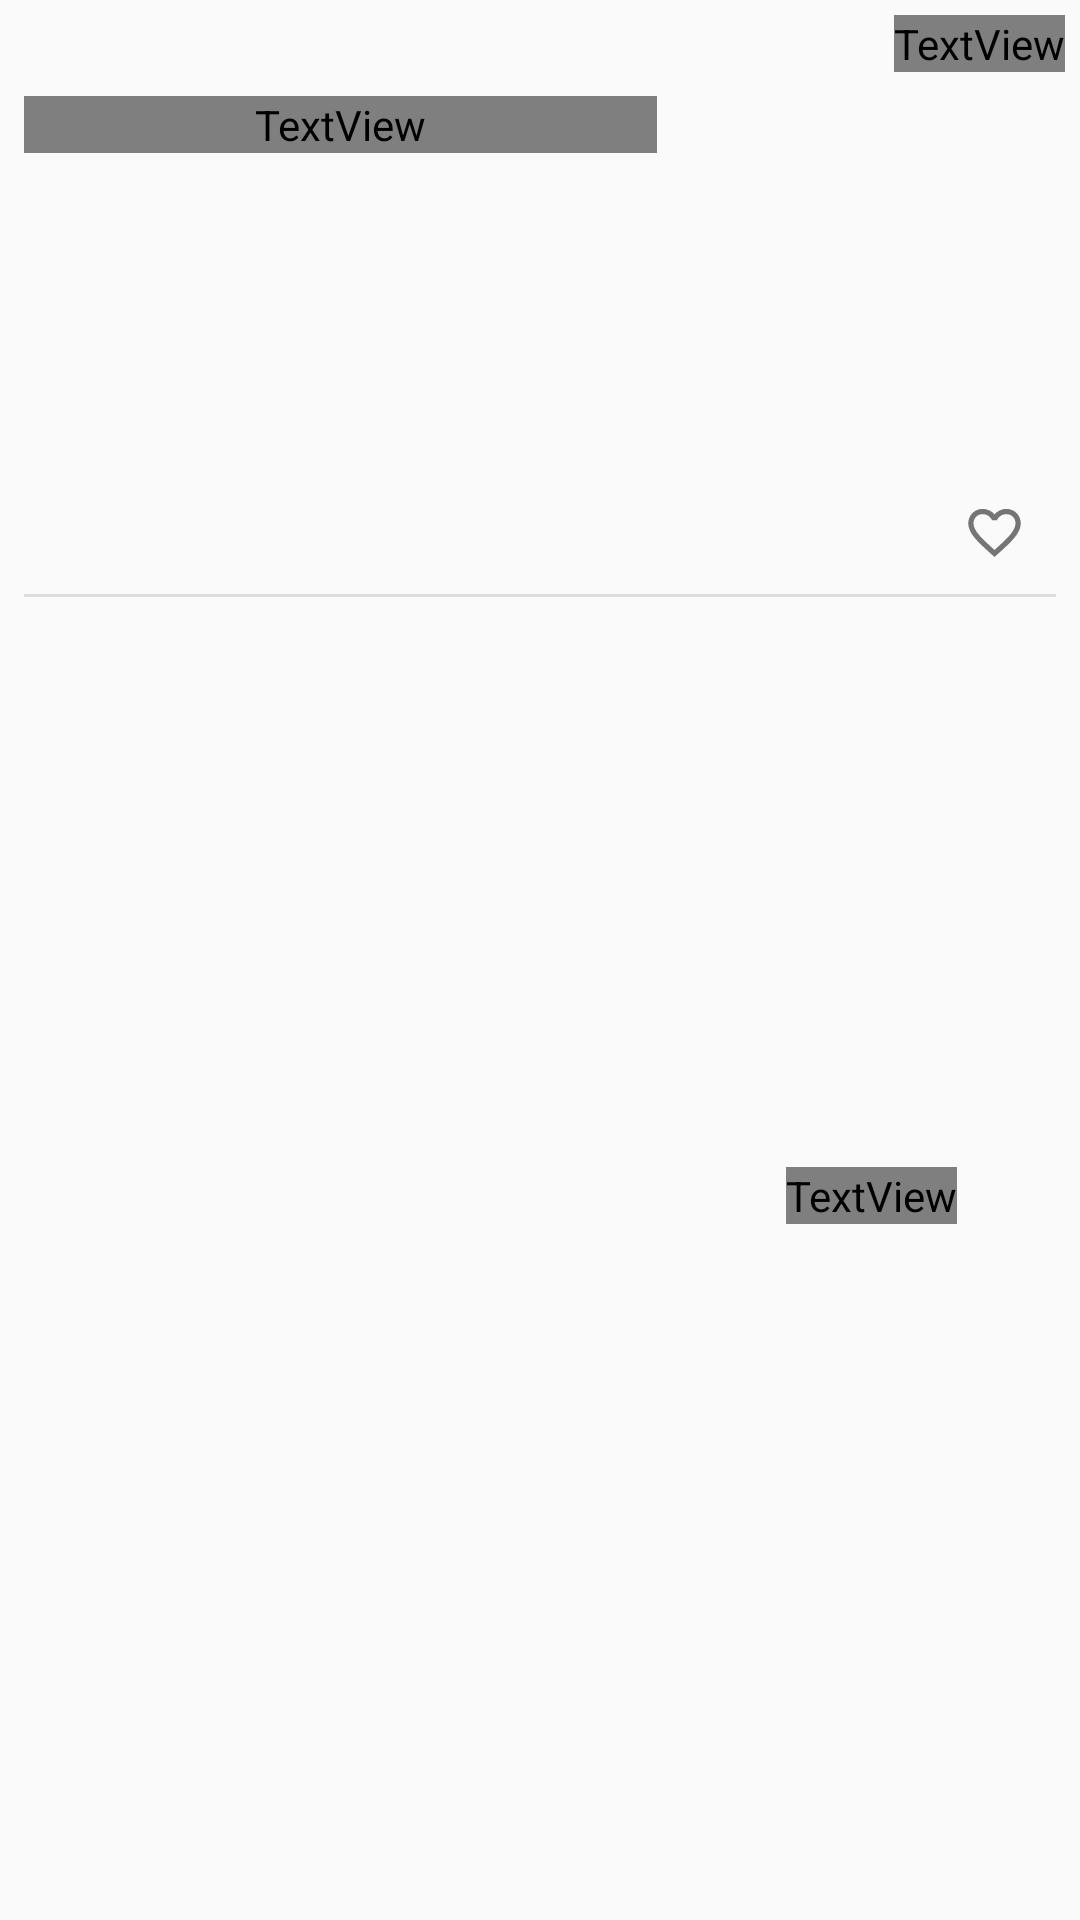

Icons on this 1080w x 1920h Android screen, each with its box as (x1, y1, x2, y2):
favorite border: (968, 509, 1021, 557)
